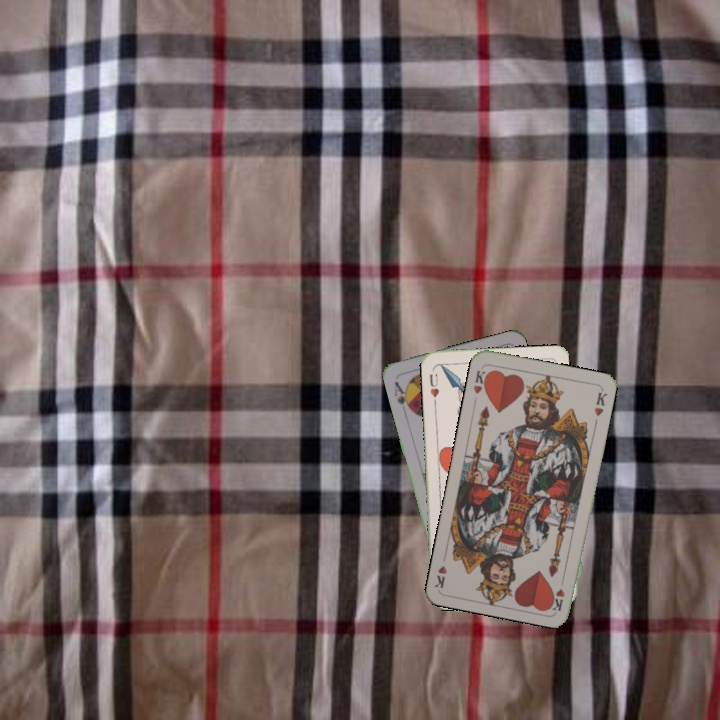HK: (548, 572, 567, 613), (469, 364, 492, 396)
HU: (426, 370, 441, 405)
SA: (390, 377, 415, 413)
